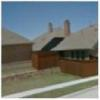chimneys: (64, 18, 70, 38), (48, 22, 53, 31)
